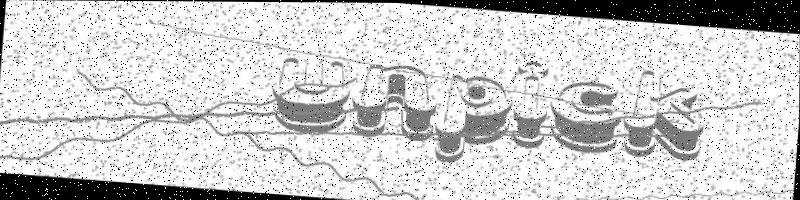c: (548, 78, 623, 154)
i: (510, 59, 552, 148)
k: (623, 68, 708, 160)
n: (351, 62, 440, 141)
p: (434, 73, 516, 166)
u: (270, 56, 352, 134)
